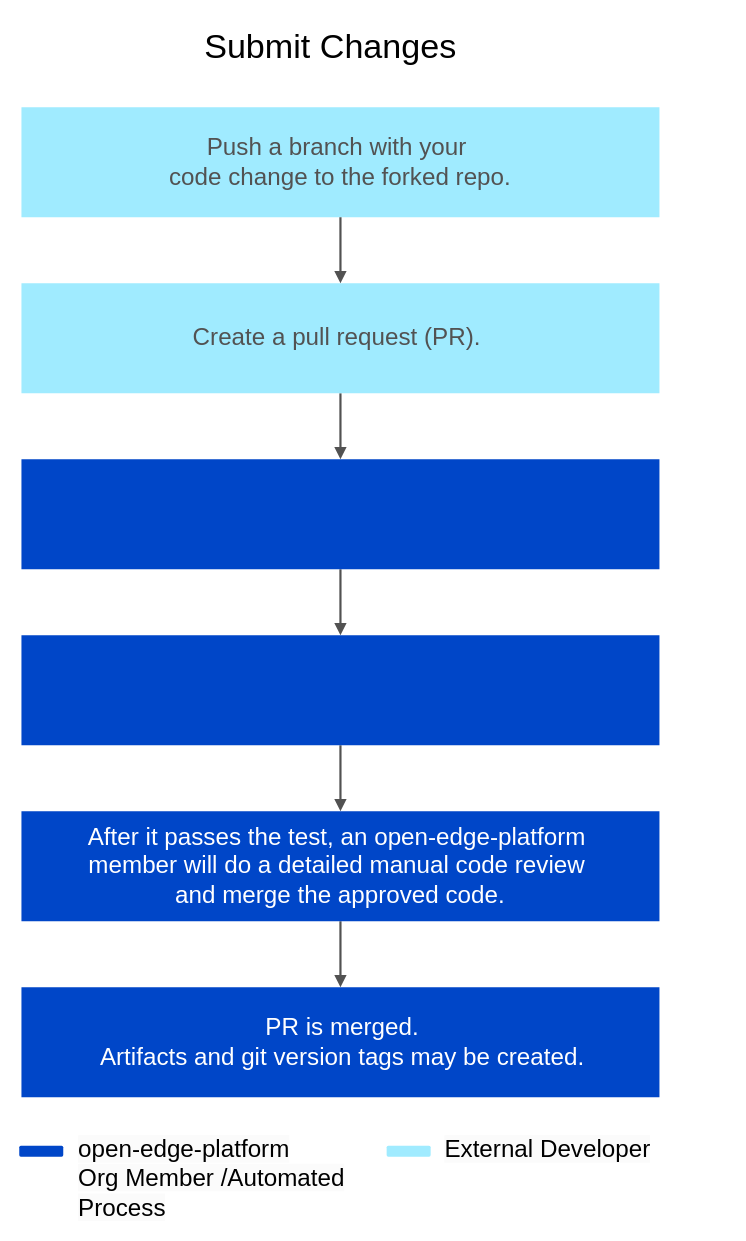
Image size: 746x1241. Some labels were removed from this diagram. The shapes that lost their labels are listed below. From the top down, each one's centre as x and y in pixels, then its label:
At point 340,514: "An open-edge-platform member provides an initial manual review of the PR.".
At point 340,690: "Once the member approves, the PR will run through automated CI test.".
